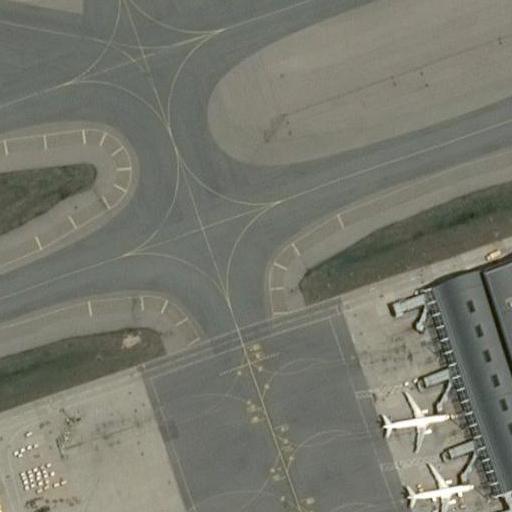Aircraft: (368, 379, 453, 451), (377, 383, 459, 449), (393, 456, 477, 512), (400, 462, 478, 512)
